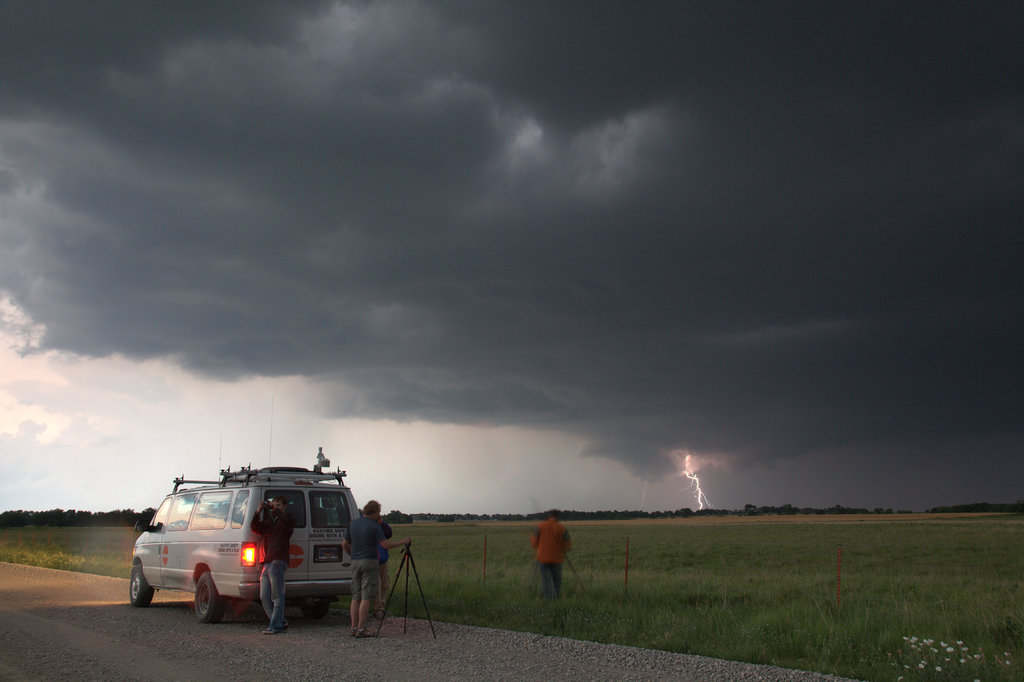cars: (119, 470, 387, 634)
